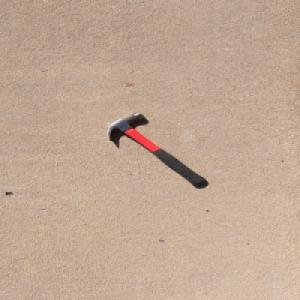Hammer: (105, 111, 207, 186)
